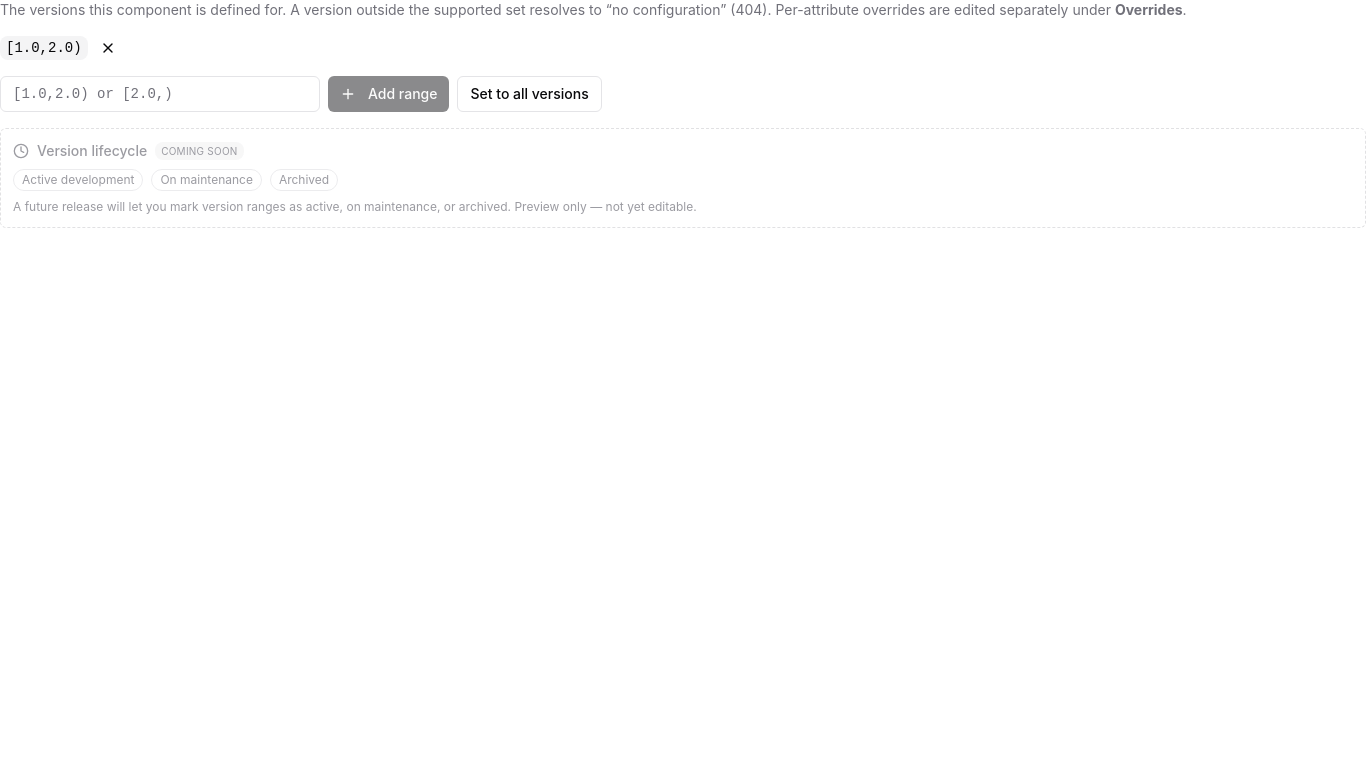
Scenario: SupportedVersionsTab › deleting the LAST remaining range opens a confirmation dialog and stages nothing yet
Step 1. Click the button named "Remove supported range [1.0,2.0)" → (108, 48), box [96, 36, 120, 60]
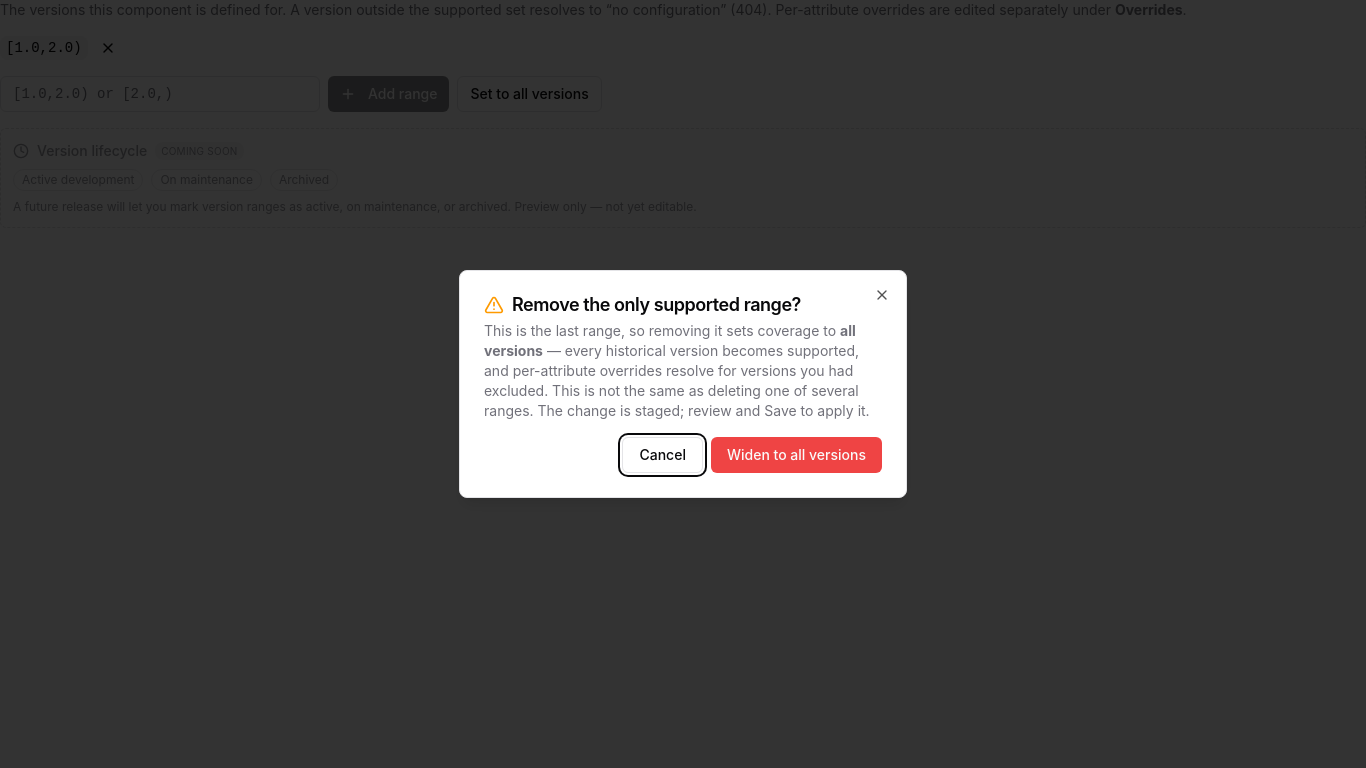
expect the text "[1.0,2.0)" is shown: met, box [0, 36, 88, 60]
expect the heading "Remove the only supported range?" is shown: met, box [484, 294, 801, 315]
expect the text "sets coverage to" is shown: met, box [484, 322, 836, 339]
